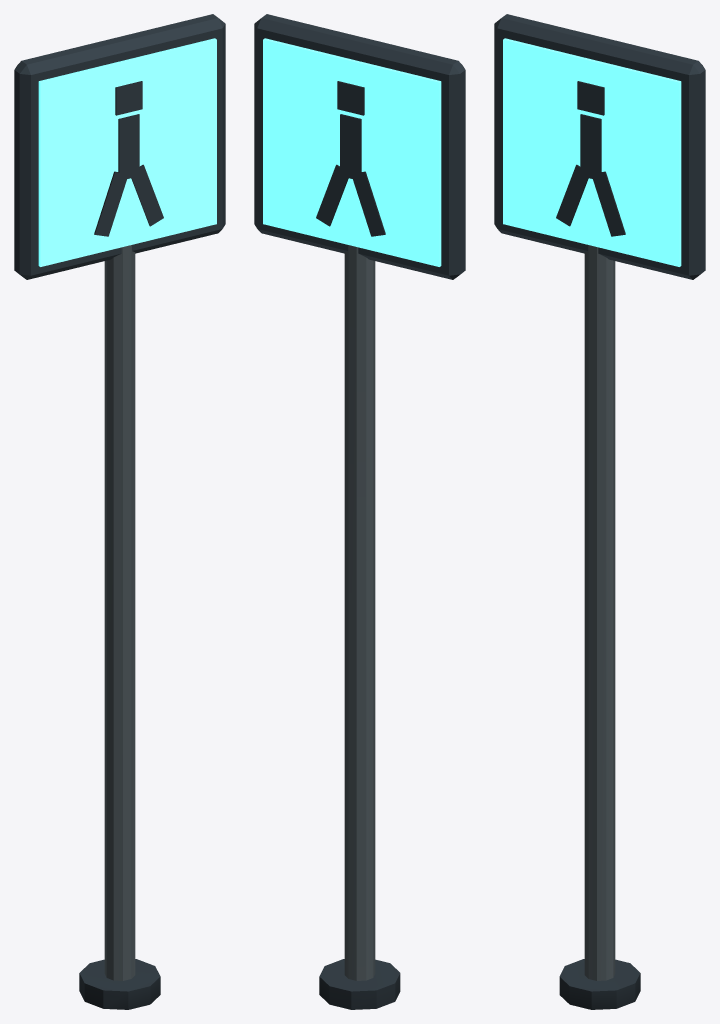
File: zebra-sign.lod0.glb
The picture shows the model from 3 angles, left to right: view 1: azimuth 30°, elevation 25°; view 2: azimuth 150°, elevation 25°; view 3: azimuth 330°, elevation 25°; orthographic projection.
Visible parts, largest first — view 1: structure; view 2: structure; view 3: structure.
Part boxes in pixels (x1,y1,x2,y2): structure: (14, 14, 225, 1009); structure: (254, 14, 465, 1009); structure: (494, 14, 705, 1009).
Size of the model in its own units: 0.6999 by 3.1 by 0.2282.
